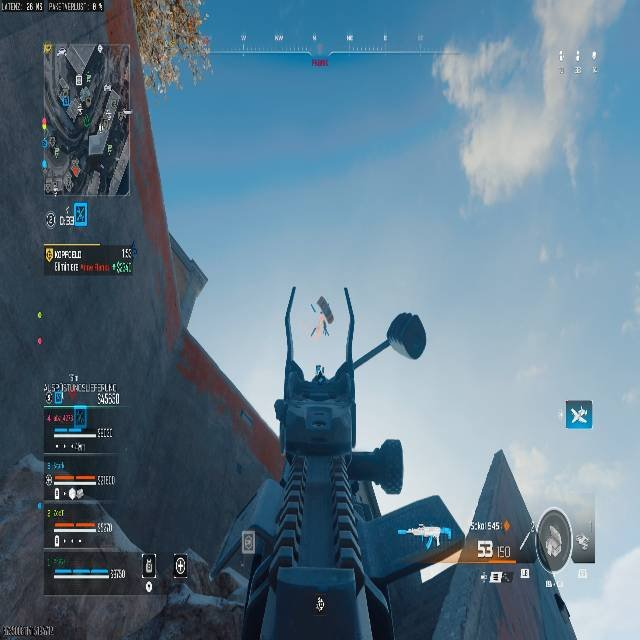player: (310, 296, 334, 339)
